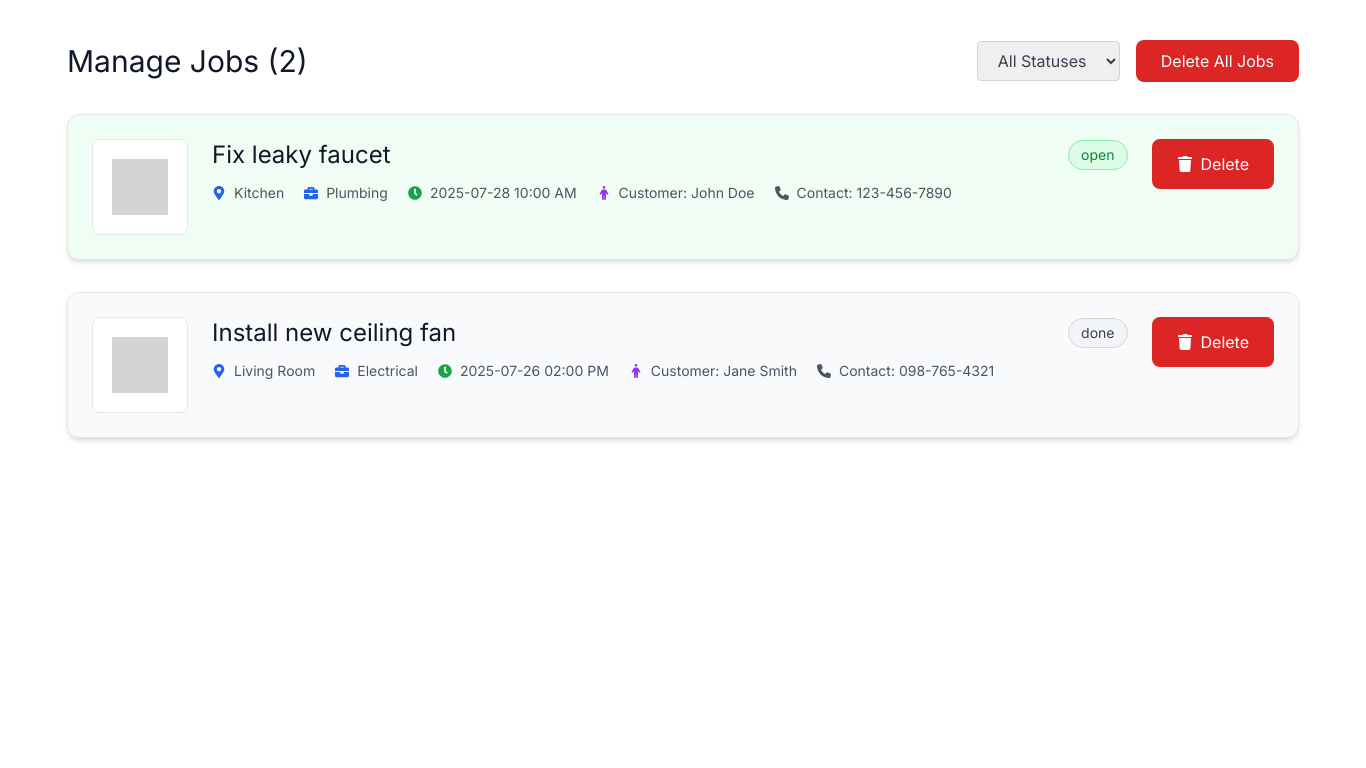
Test: AdminJobManagement › cancels deletion when 'Cancel' is clicked in the modal
This screenshot has width=1366, height=768.
Step 1. Click the button "Delete" next to "open" → (1213, 164), box [1152,139,1274,189]
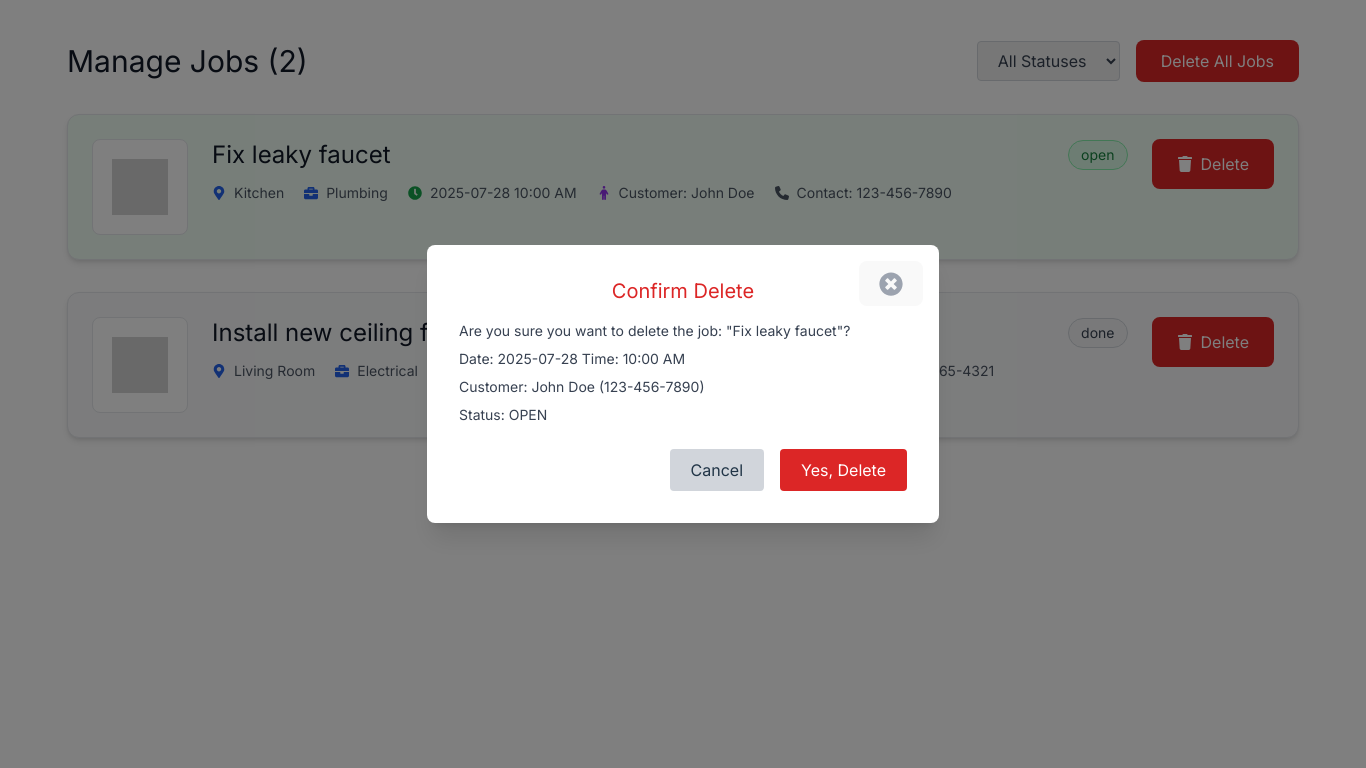
Expected: the heading "Confirm Delete" is shown, [612,279,754,303]
Step 2. Click the button "Cancel" → (717, 470), box [670,449,764,491]
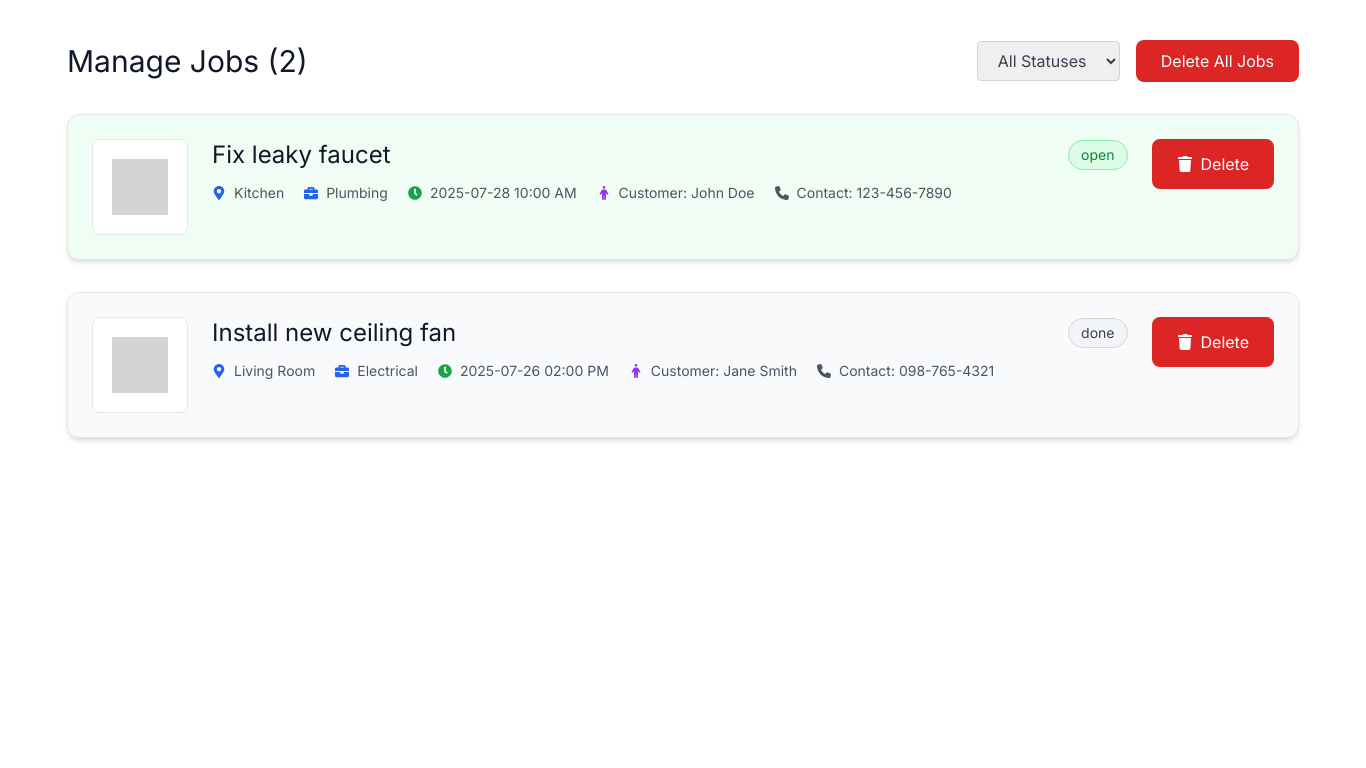
Expected: the heading "Confirm Delete" is gone
